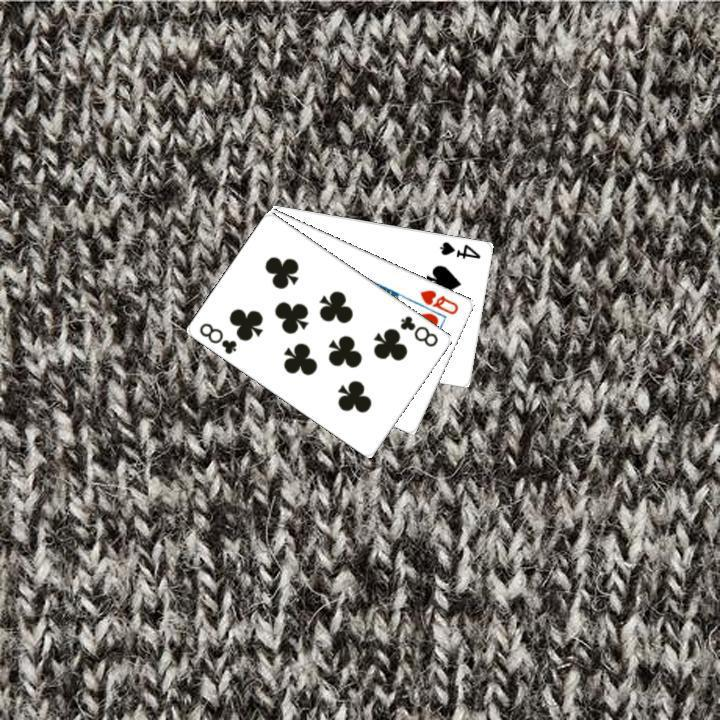4: (436, 237, 483, 260)
8: (396, 311, 440, 349), (195, 318, 239, 356)
Q: (416, 285, 461, 317)
